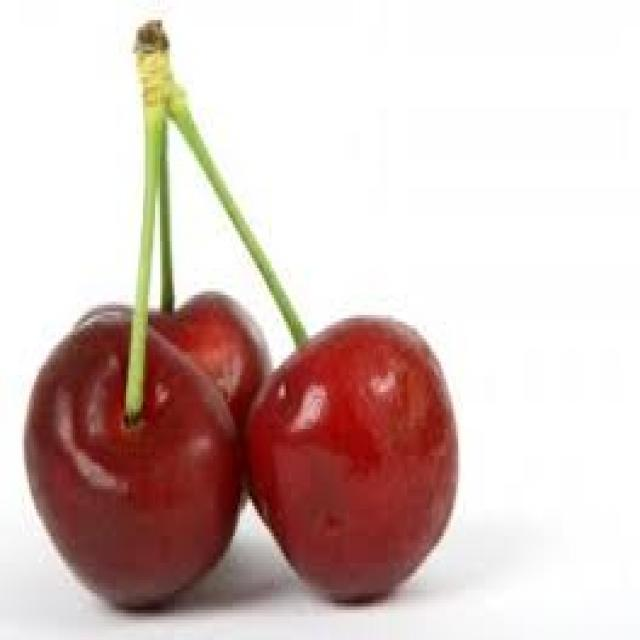organic waste: (22, 312, 242, 610), (242, 315, 458, 600), (78, 292, 269, 499)
